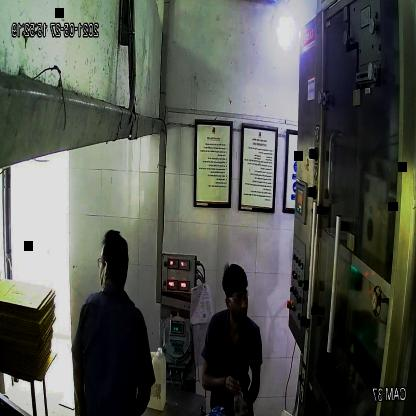goggles: (223, 288, 251, 309)
